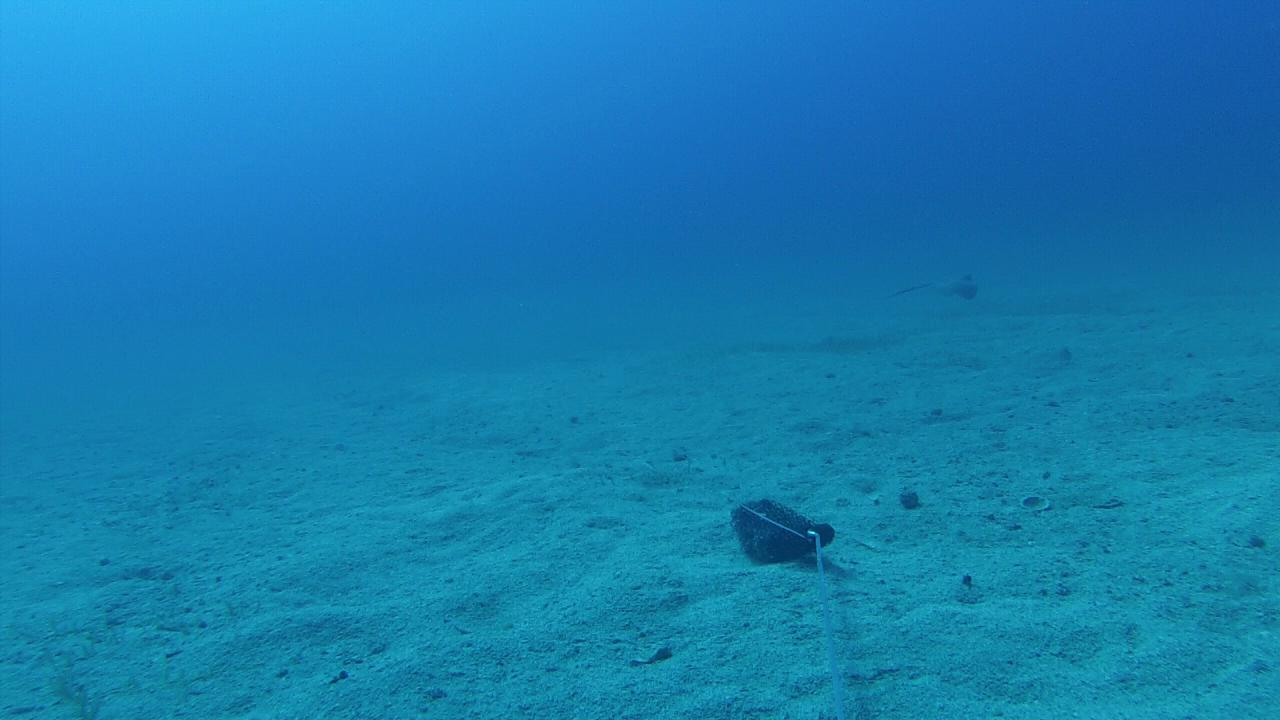dasyatis: (881, 269, 980, 300)
